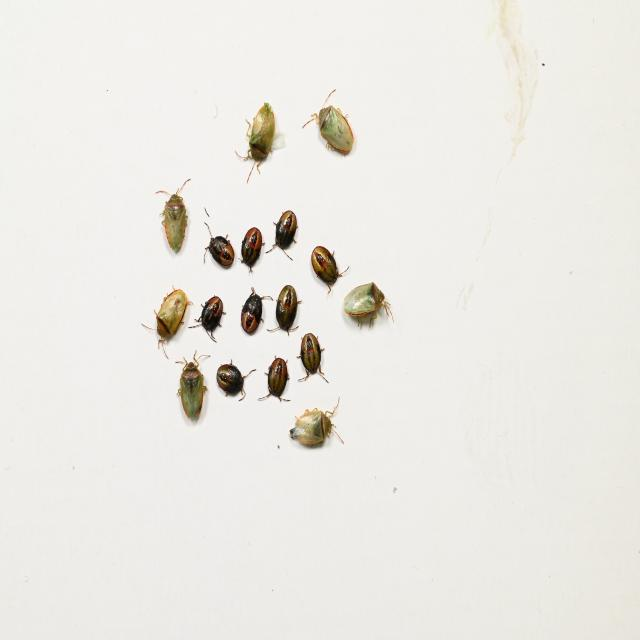stinkbug: (140, 284, 193, 360), (301, 88, 354, 158), (234, 101, 276, 184), (154, 178, 192, 255), (171, 351, 212, 422), (288, 397, 345, 446), (343, 280, 394, 330)
